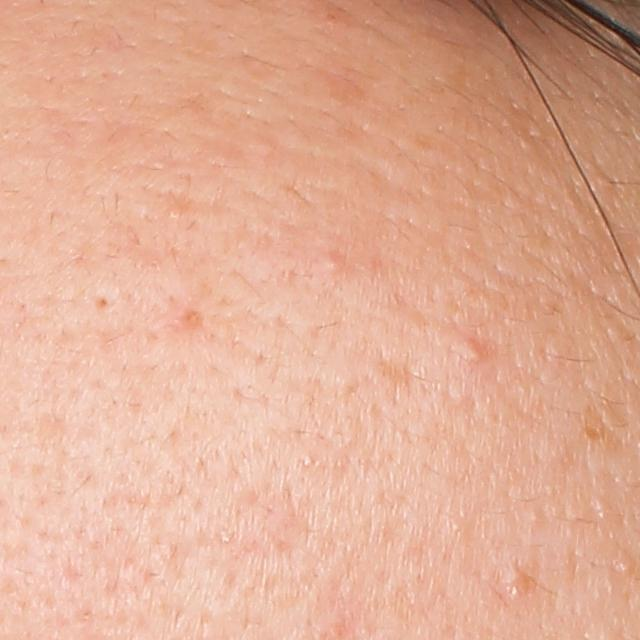comedo: (501, 563, 534, 598), (451, 339, 483, 365), (614, 553, 636, 580), (323, 253, 342, 277)
